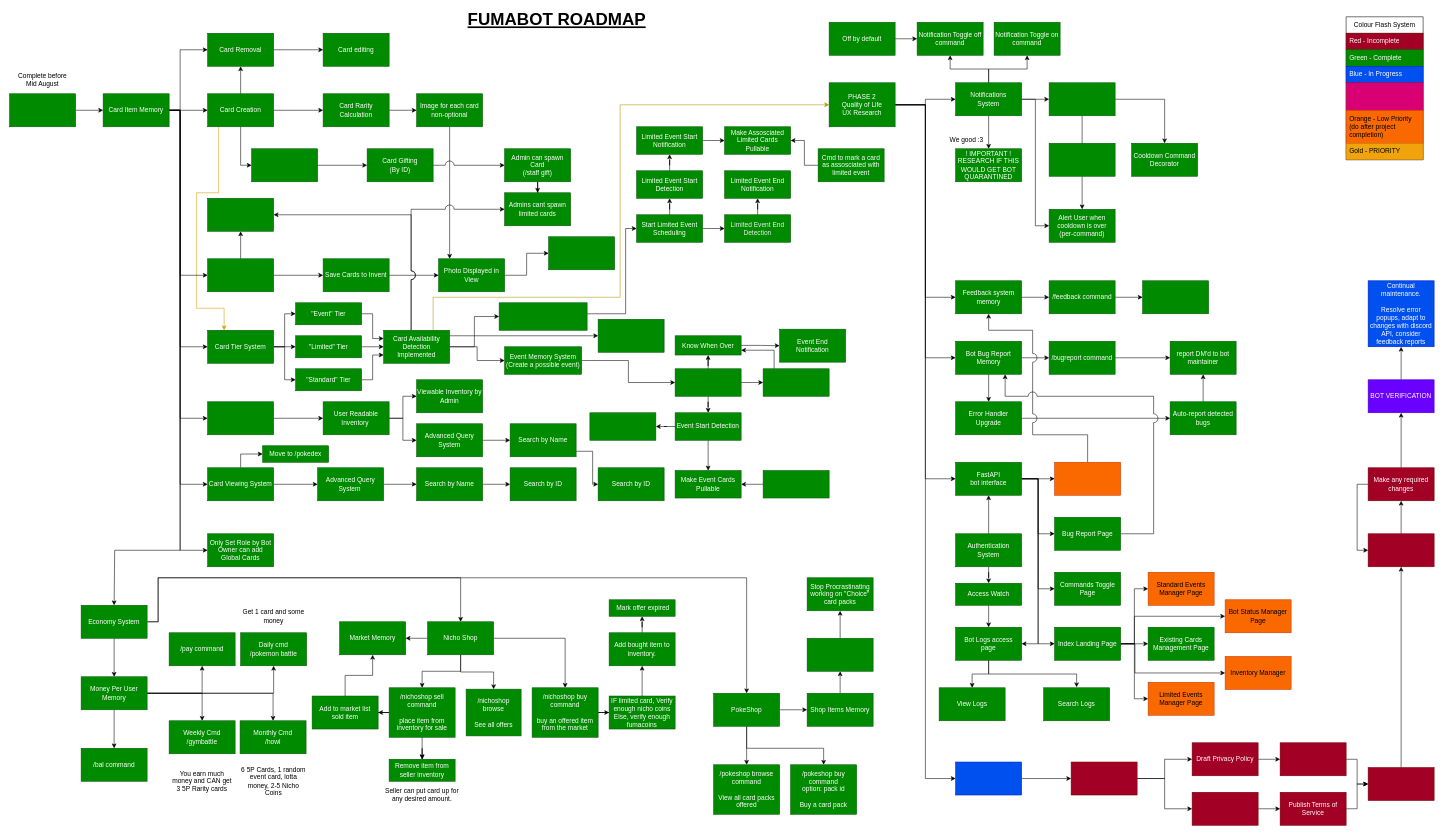
Image size: 1444x835. Some labels were removed from this diagram. The centre of each missing label's shape, as x and y in pixels:
/legal command (links both): [1401,784]
Add Cards Packs Command: [840,654]
Can Only Pull "Standard" level cards: [240,214]
Can set a card Unique ID: [284,165]
Card Count memory (Inventory System): [240,418]
Card Creation Command Supports Event And Limited Cards: [631,335]
Card Pulling System: [240,275]
Cmd to mark a card as assosciated with event: [796,484]
Cooldown Watchdog: [1082,159]
Custom Cooldown System: [1082,99]
Draft Terms of Services: [1225,808]
Event End Detection: [796,382]
Event Scheduling: [708,382]
Event Start Notification: [622,426]
feedback DM'd to bot maintainer: [1175,297]
Feedback Report Page: [1087,478]
Limited Card Event System (Create possible limited event): [543,316]
PHASE 1 MAIN PREMISE: [42,110]
PHASE 3 Finalities: [988,778]
Photo Displayed in 3s on pull: [581,253]
Pink - Deconstruction Needed: [1384,96]
Publish Privacy Policy: [1313,759]
Review Whole Project in comparison to discord dev policy: [1401,550]
Run it all through a volunteer Q/A Team: [1104,778]
